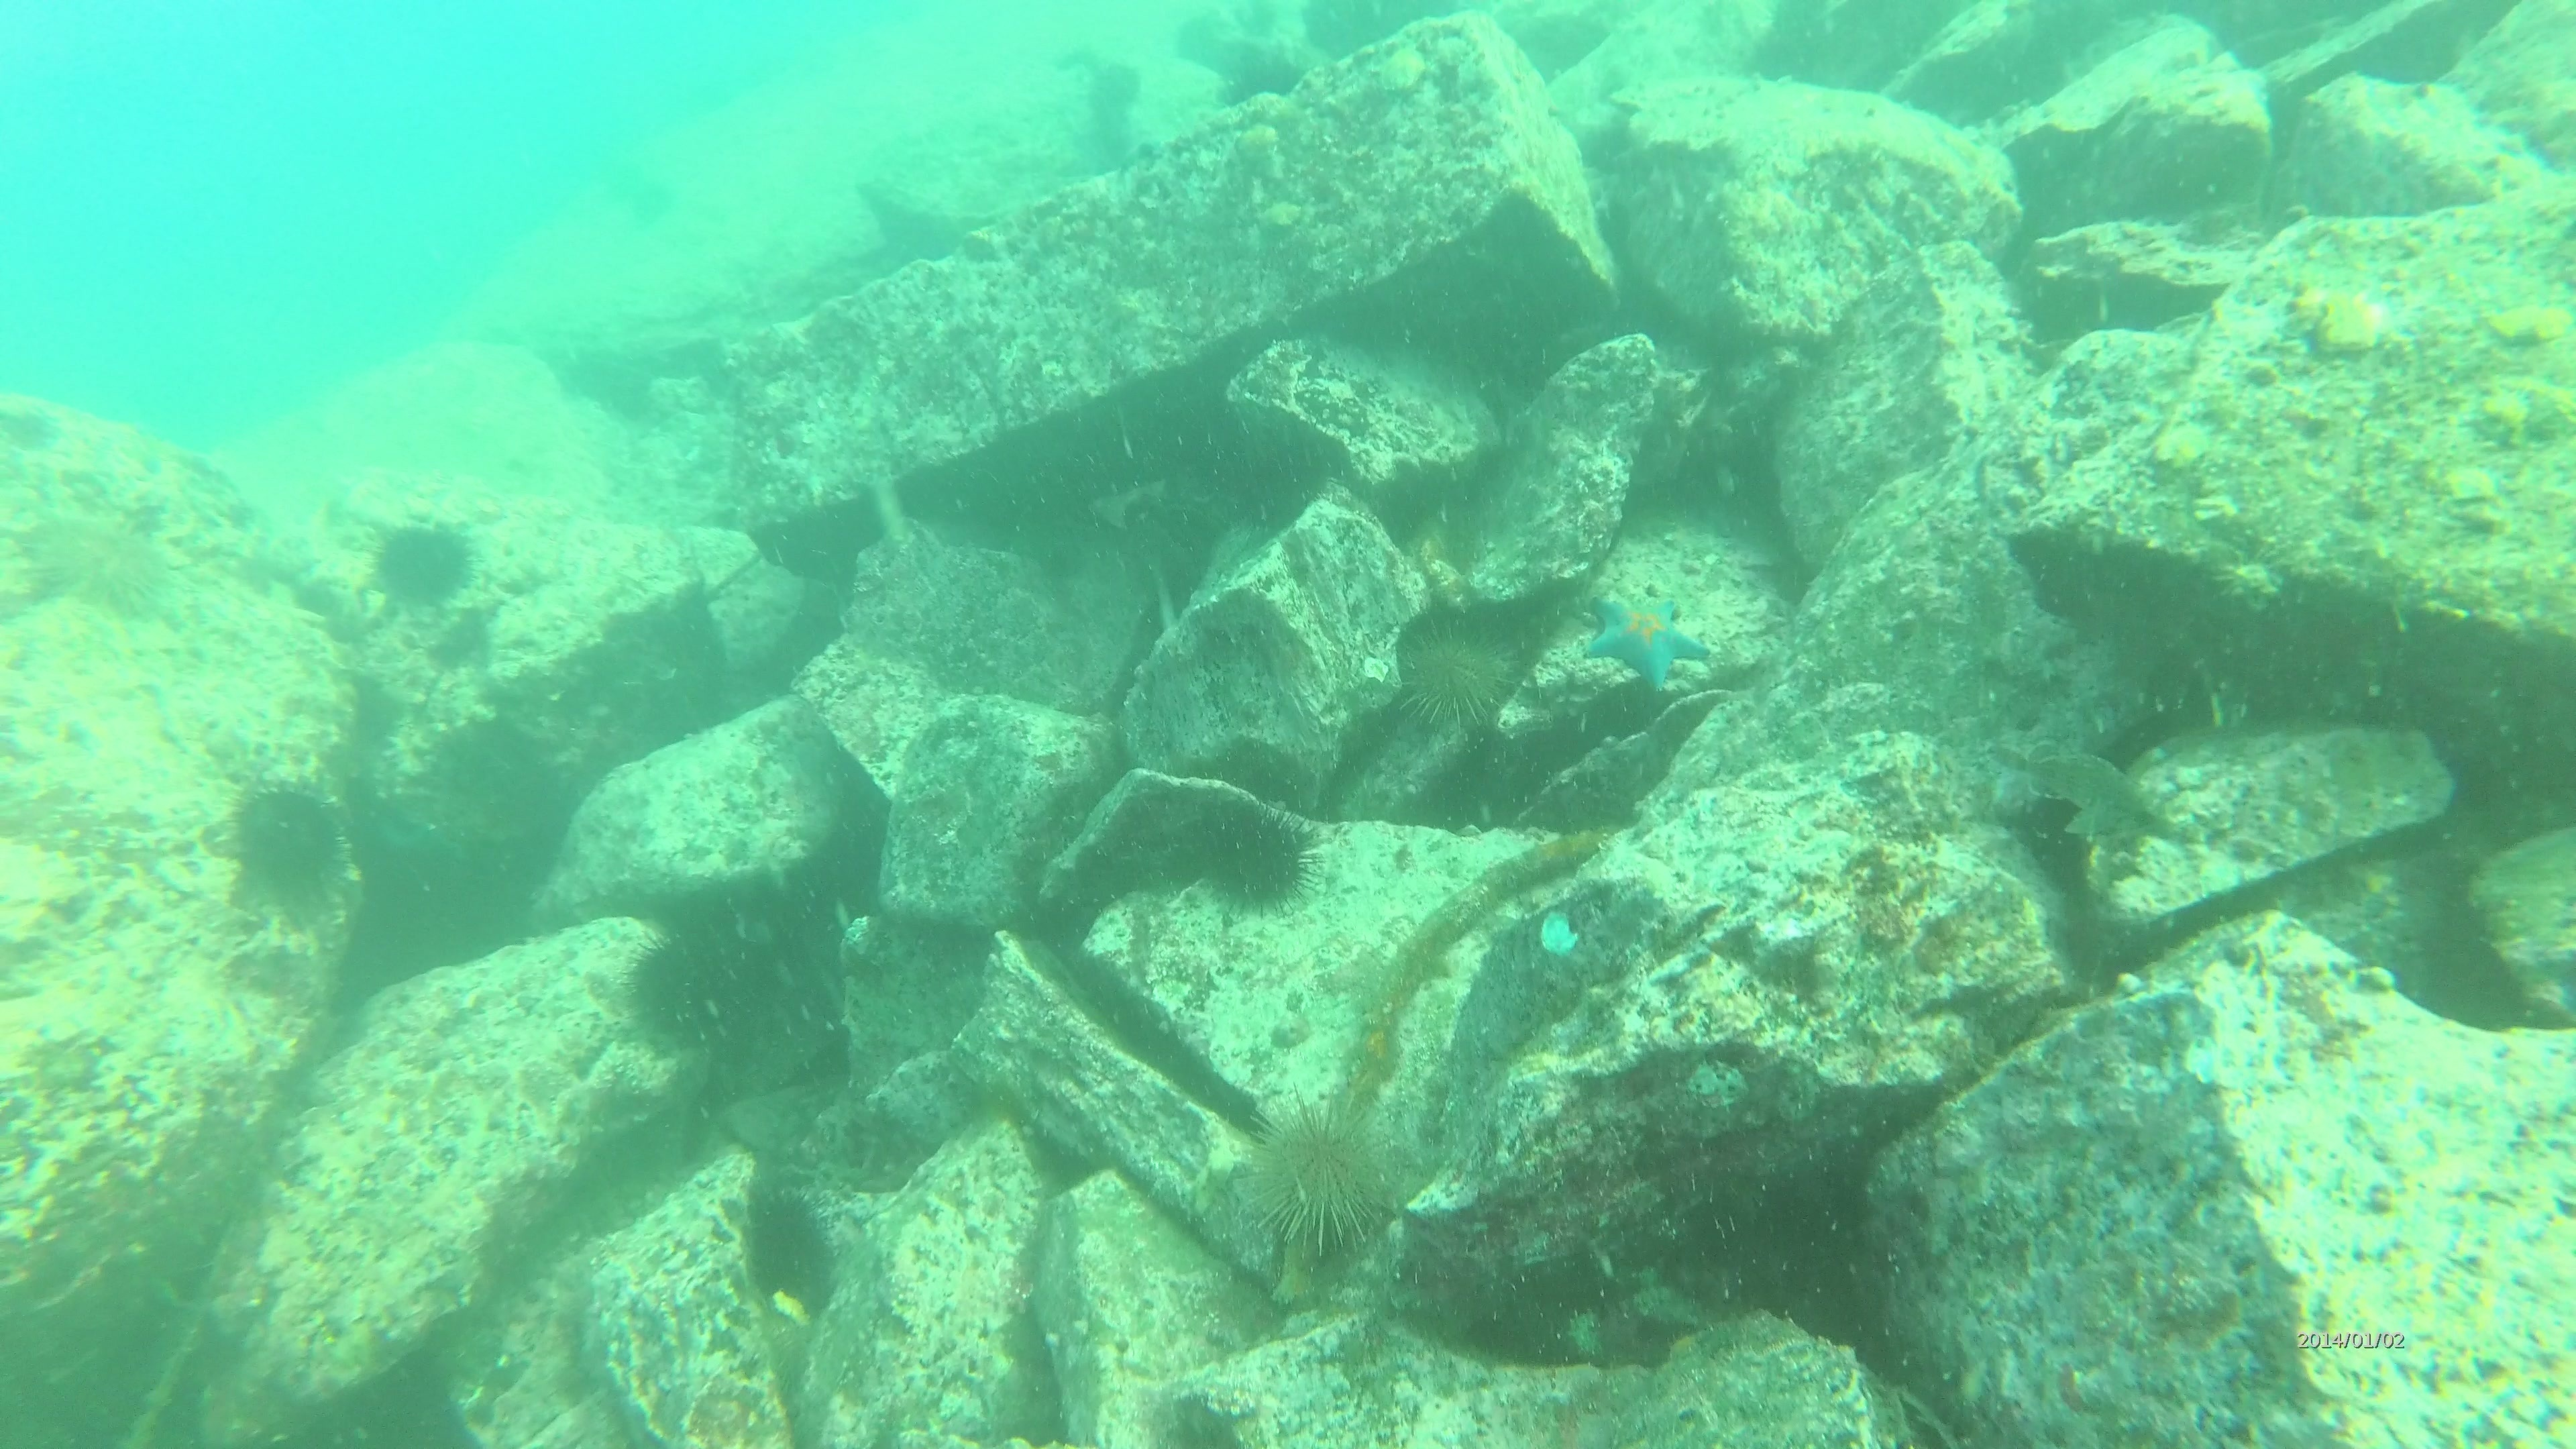echinus: (1235, 1099, 1401, 1263), (28, 502, 184, 623), (1387, 610, 1522, 740), (223, 775, 352, 906), (619, 929, 747, 1058), (1187, 798, 1322, 916), (732, 1184, 840, 1315), (364, 513, 481, 616)
starfish: (1578, 582, 1713, 688)
